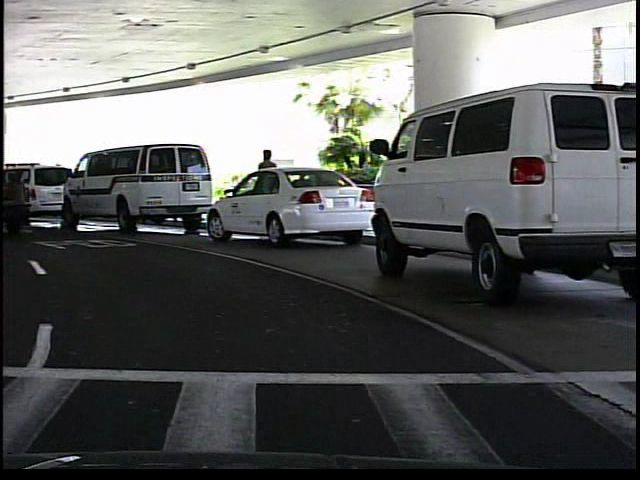person: (254, 144, 282, 224)
